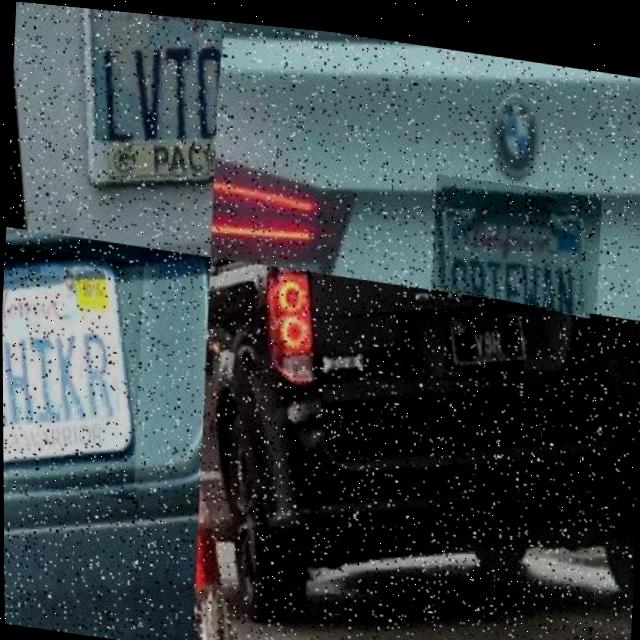LicensePlate: (1, 243, 145, 499), (56, 4, 224, 204), (431, 164, 603, 306), (446, 308, 524, 362)
